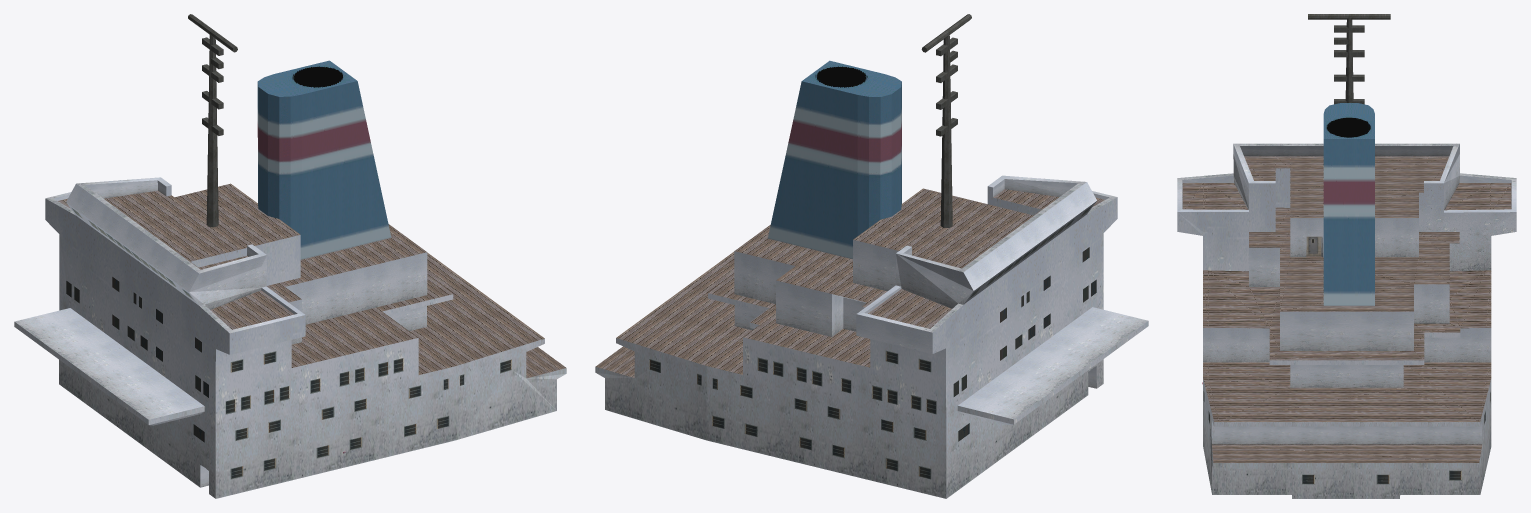
Rendered from dk_cargoshp05d.obj.
The picture shows the model from 3 angles, left to right: view 1: azimuth 30°, elevation 25°; view 2: azimuth 150°, elevation 25°; view 3: azimuth 270°, elevation 25°; orthographic projection. The views are drawn at different scales.
Visible parts, largest first — view 1: dk_cargoshp05d; view 2: dk_cargoshp05d; view 3: dk_cargoshp05d.
Part boxes in pixels (x1,y1,x2,y2): dk_cargoshp05d: [14, 14, 566, 498]; dk_cargoshp05d: [595, 14, 1148, 498]; dk_cargoshp05d: [1177, 14, 1516, 498].
Bounding box in the file's own units: 41.41 × 37.59 × 32.1.
